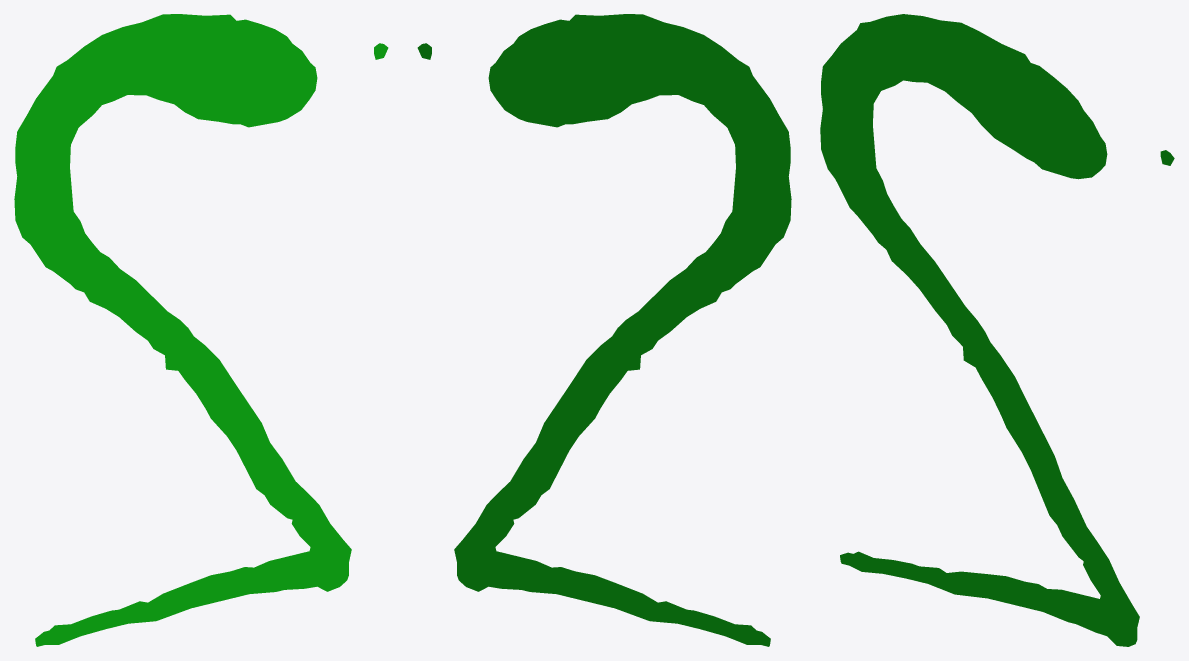
Rendered from hstwo.obj.
3 views of the same model, side by side, from view 1: azimuth 30°, elevation 25°; view 2: azimuth 150°, elevation 25°; view 3: azimuth 330°, elevation 25° (orthographic). The views are drawn at different scales.
Parts seen in each view (by area): view 1: hstwo.008; view 2: hstwo.008; view 3: hstwo.008.
Boxes of the visible parts, x1,y1,x2,y2 form: hstwo.008: (14,14,388,646); hstwo.008: (417,14,791,646); hstwo.008: (820,14,1174,646).
Size of the model in its own units: 0.3449 by 0.5442 by 0.
